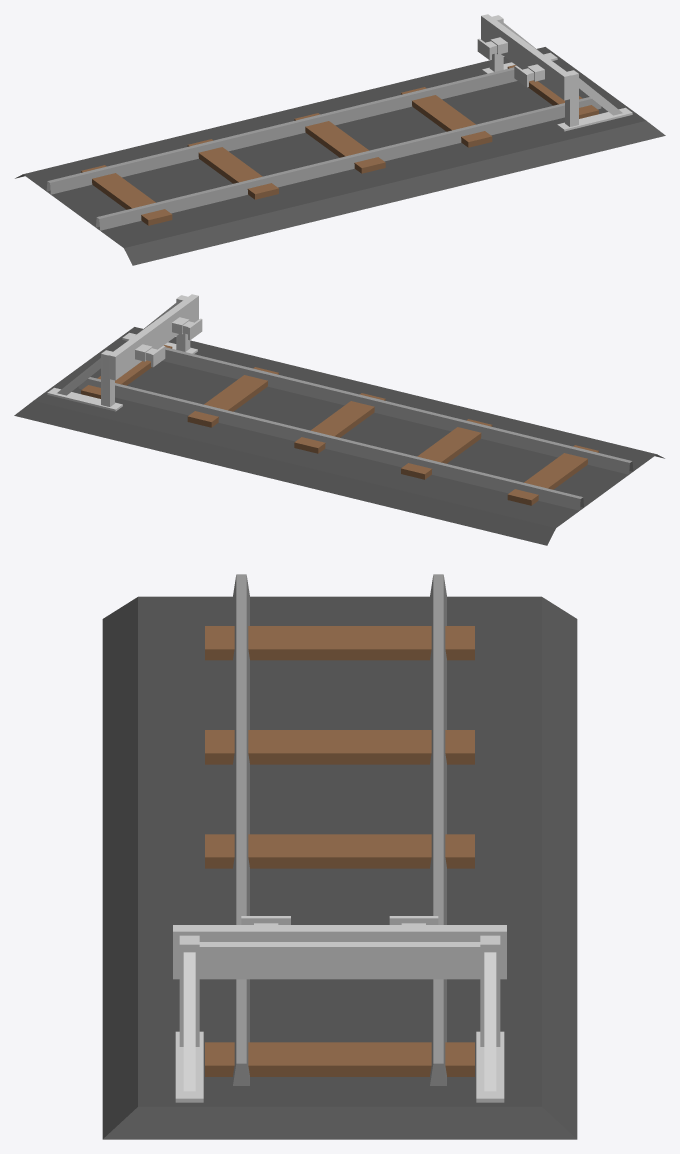
Rendered from 1_endstop.fbx.
3 renders of one model, top to bottom at view 1: azimuth 30°, elevation 25°; view 2: azimuth 150°, elevation 25°; view 3: azimuth 270°, elevation 25°, orthographic. The views are drawn at different scales.
Parts seen in each view (by area): view 1: 1_endstop; view 2: 1_endstop; view 3: 1_endstop.
Part boxes in pixels (x1,y1,x2,y2): 1_endstop: [15, 14, 665, 265]; 1_endstop: [14, 294, 664, 545]; 1_endstop: [102, 574, 577, 1139].
Size of the model in its own units: 5 by 0.5948 by 1.93.
